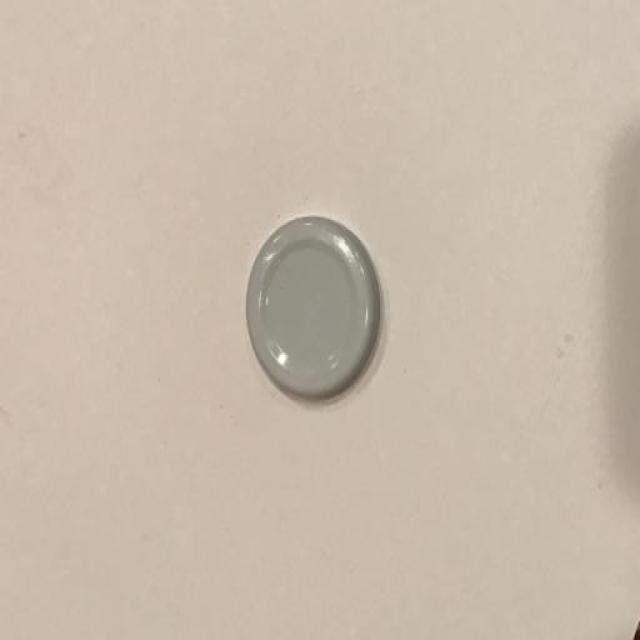metal: (244, 213, 382, 404)
